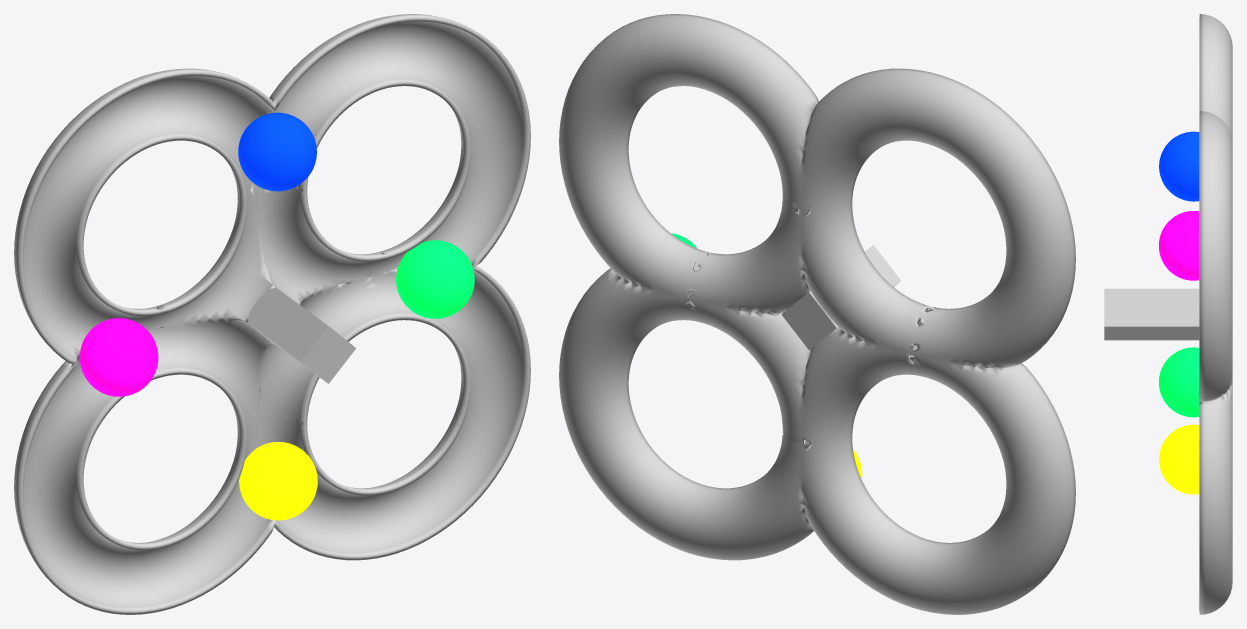
File: neon_spinners.glb
3 views of the same model, side by side, from view 1: azimuth 30°, elevation 25°; view 2: azimuth 150°, elevation 25°; view 3: azimuth 270°, elevation 25° (orthographic). The views are drawn at different scales.
Visible parts, largest first — view 1: Torus.002_0, Cube_17, Sphere.002_9, Sphere.001_5, Sphere_1, Sphere.003_13; view 2: Torus.002_0, Cube_17; view 3: Torus.002_0, Cube_17, Sphere.003_13, Sphere.001_5, Sphere_1, Sphere.002_9.
Part boxes in pixels (x1,y1,x2,y2): Torus.002_0: (14, 14, 530, 614); Cube_17: (247, 287, 356, 383); Sphere.002_9: (238, 112, 316, 191); Sphere.001_5: (79, 318, 158, 396); Sphere_1: (239, 441, 317, 520); Sphere.003_13: (396, 240, 474, 318); Torus.002_0: (559, 14, 1075, 614); Cube_17: (781, 245, 901, 349); Torus.002_0: (1199, 14, 1232, 614); Cube_17: (1104, 288, 1199, 340); Sphere.003_13: (1159, 347, 1199, 417); Sphere.001_5: (1159, 211, 1199, 280); Sphere_1: (1159, 424, 1199, 494); Sphere.002_9: (1159, 131, 1199, 201).
Size of the model in its own units: 4.58 by 4.58 by 1.12.
